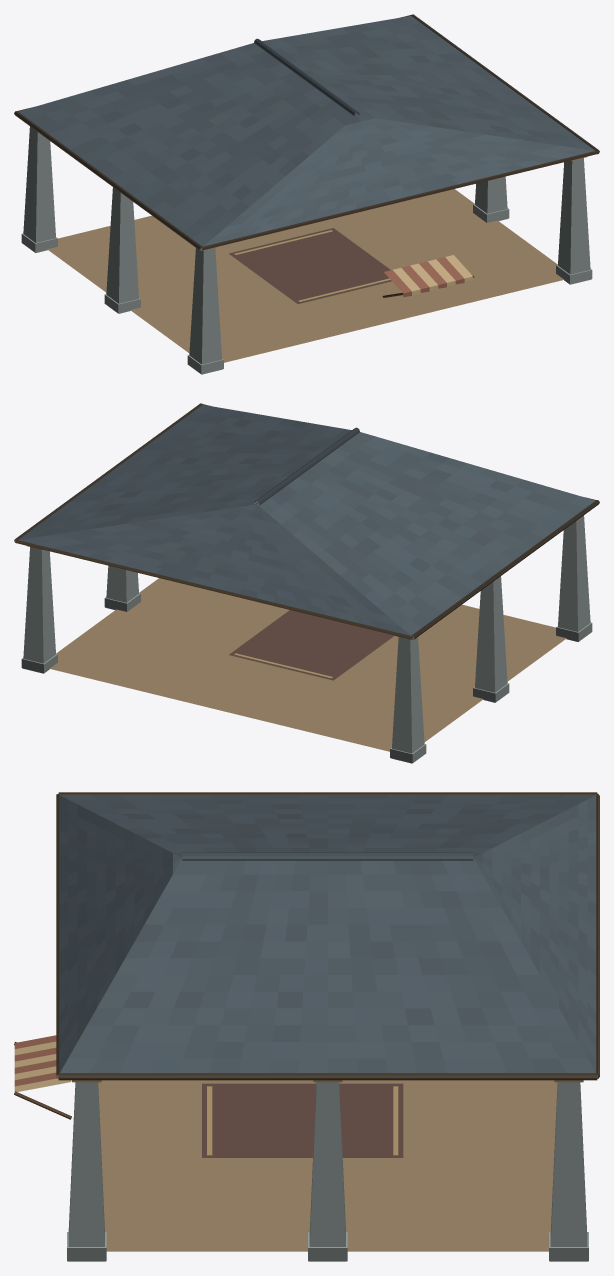
3 views of the same model, one above another, from view 1: azimuth 30°, elevation 25°; view 2: azimuth 150°, elevation 25°; view 3: azimuth 270°, elevation 25° (orthographic). The views are drawn at different scales.
Visible parts, largest first — view 1: 6b4efdbeed7f4c8443f484df790d756adbed5a8dc1b8a444630813536213; view 2: 6b4efdbeed7f4c8443f484df790d756adbed5a8dc1b8a444630813536213; view 3: 6b4efdbeed7f4c8443f484df790d756adbed5a8dc1b8a444630813536213.
Part boxes in pixels (x1,y1,x2,y2): 6b4efdbeed7f4c8443f484df790d756adbed5a8dc1b8a444630813536213: [14, 14, 599, 374]; 6b4efdbeed7f4c8443f484df790d756adbed5a8dc1b8a444630813536213: [14, 403, 599, 763]; 6b4efdbeed7f4c8443f484df790d756adbed5a8dc1b8a444630813536213: [14, 792, 599, 1261].
Bounding box in the file's own units: 16.02 × 7.12 × 13.98.
6 materials, 1 textured.
